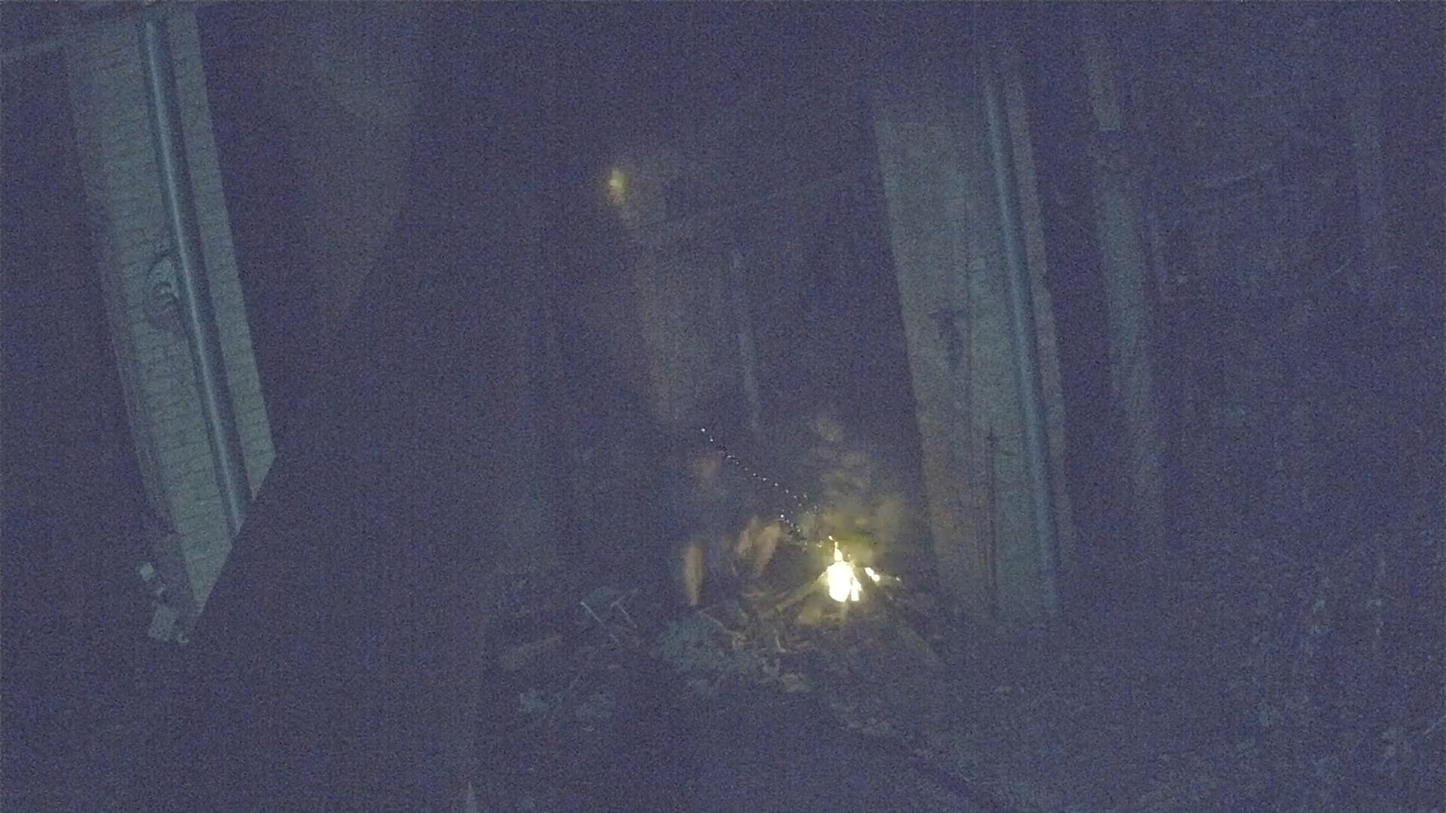fire: (822, 549, 880, 603)
